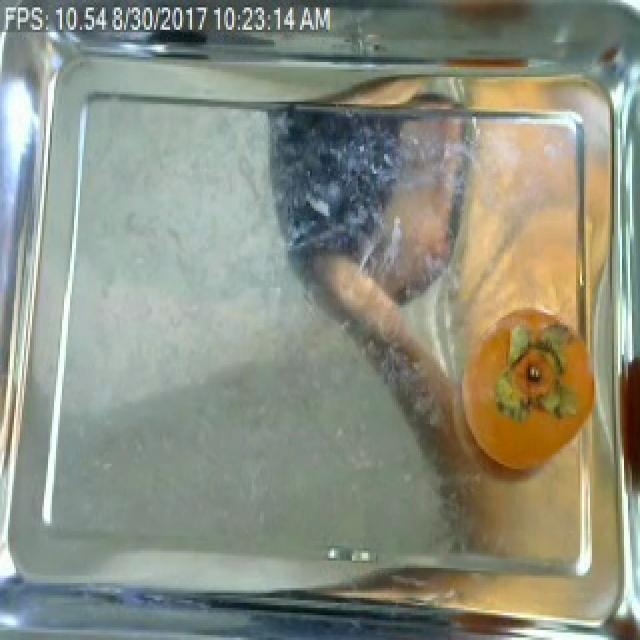Fruit: (456, 338, 578, 477)
